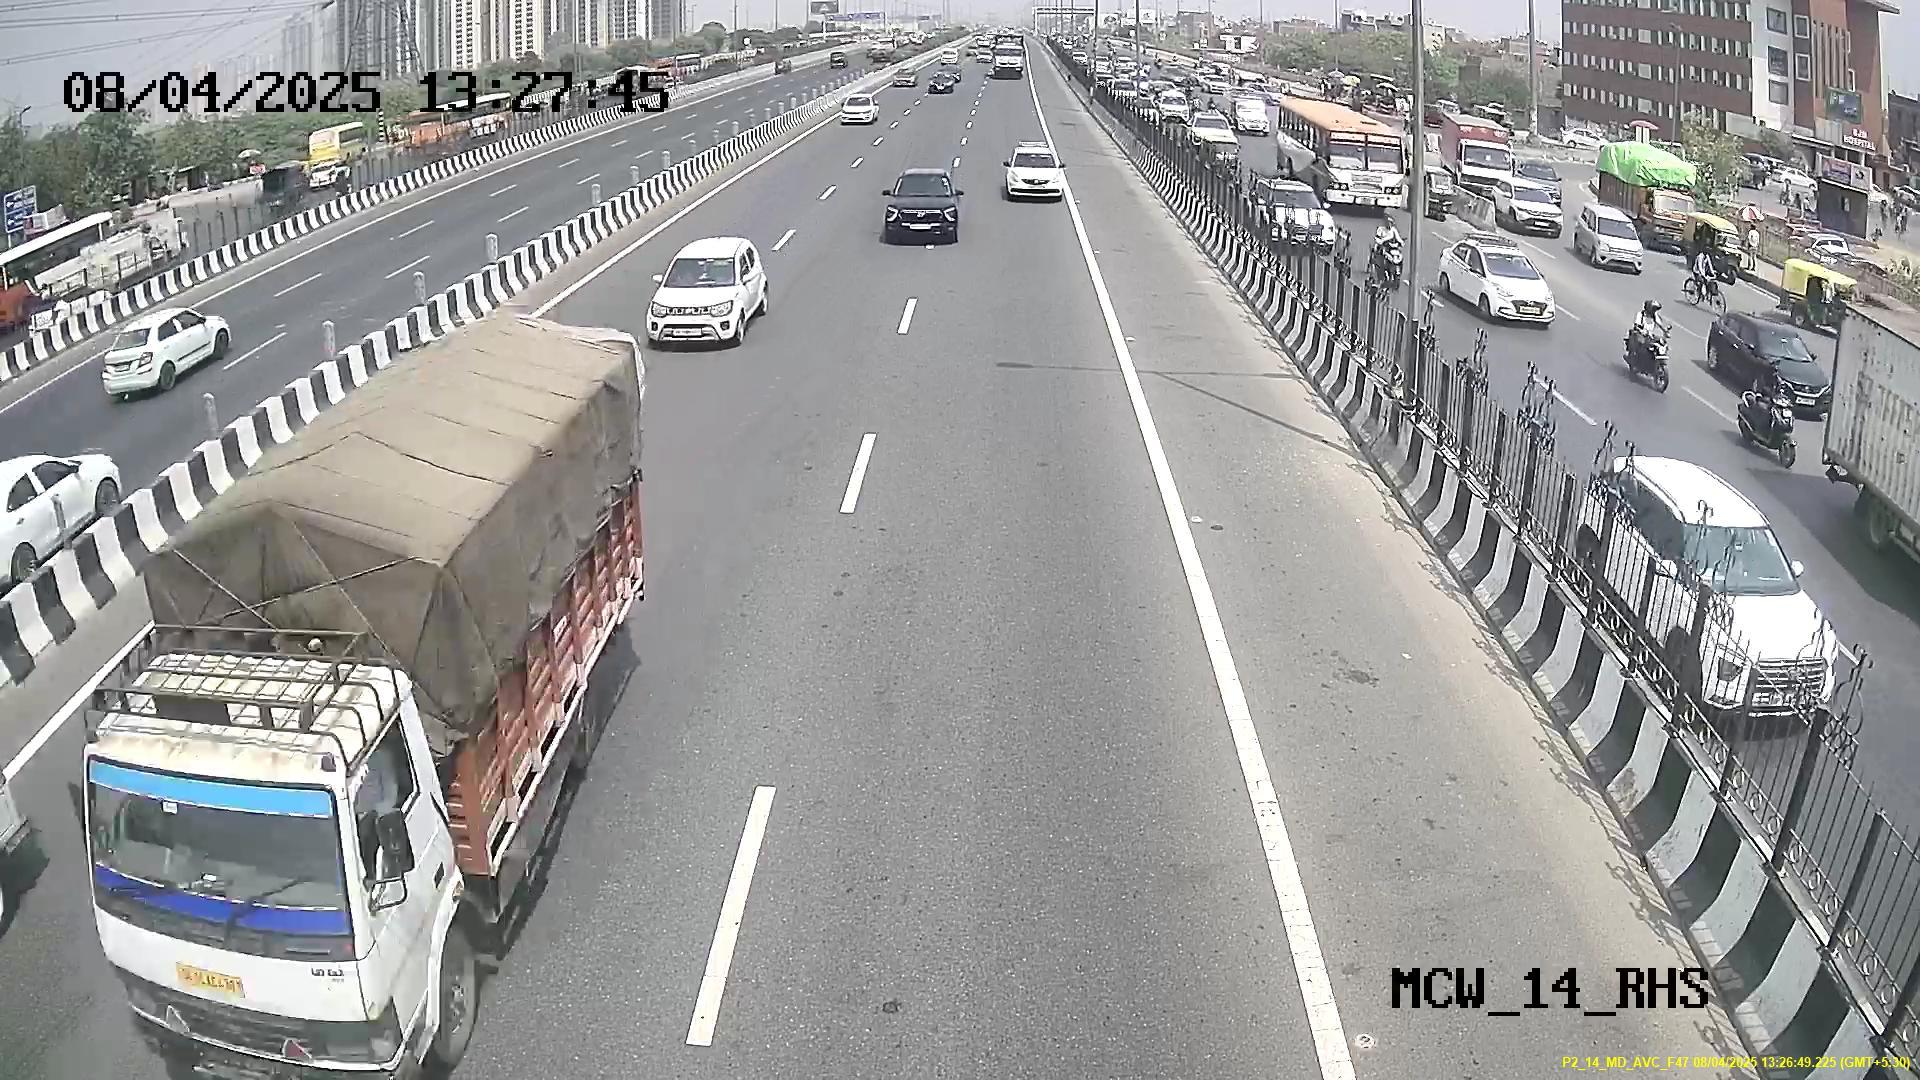car: (638, 245, 757, 348), (880, 170, 963, 244), (1001, 138, 1067, 206)
lcv: (66, 699, 421, 1072)
